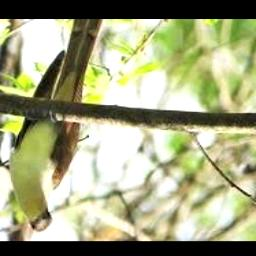Cuckoo: (10, 19, 104, 232)
